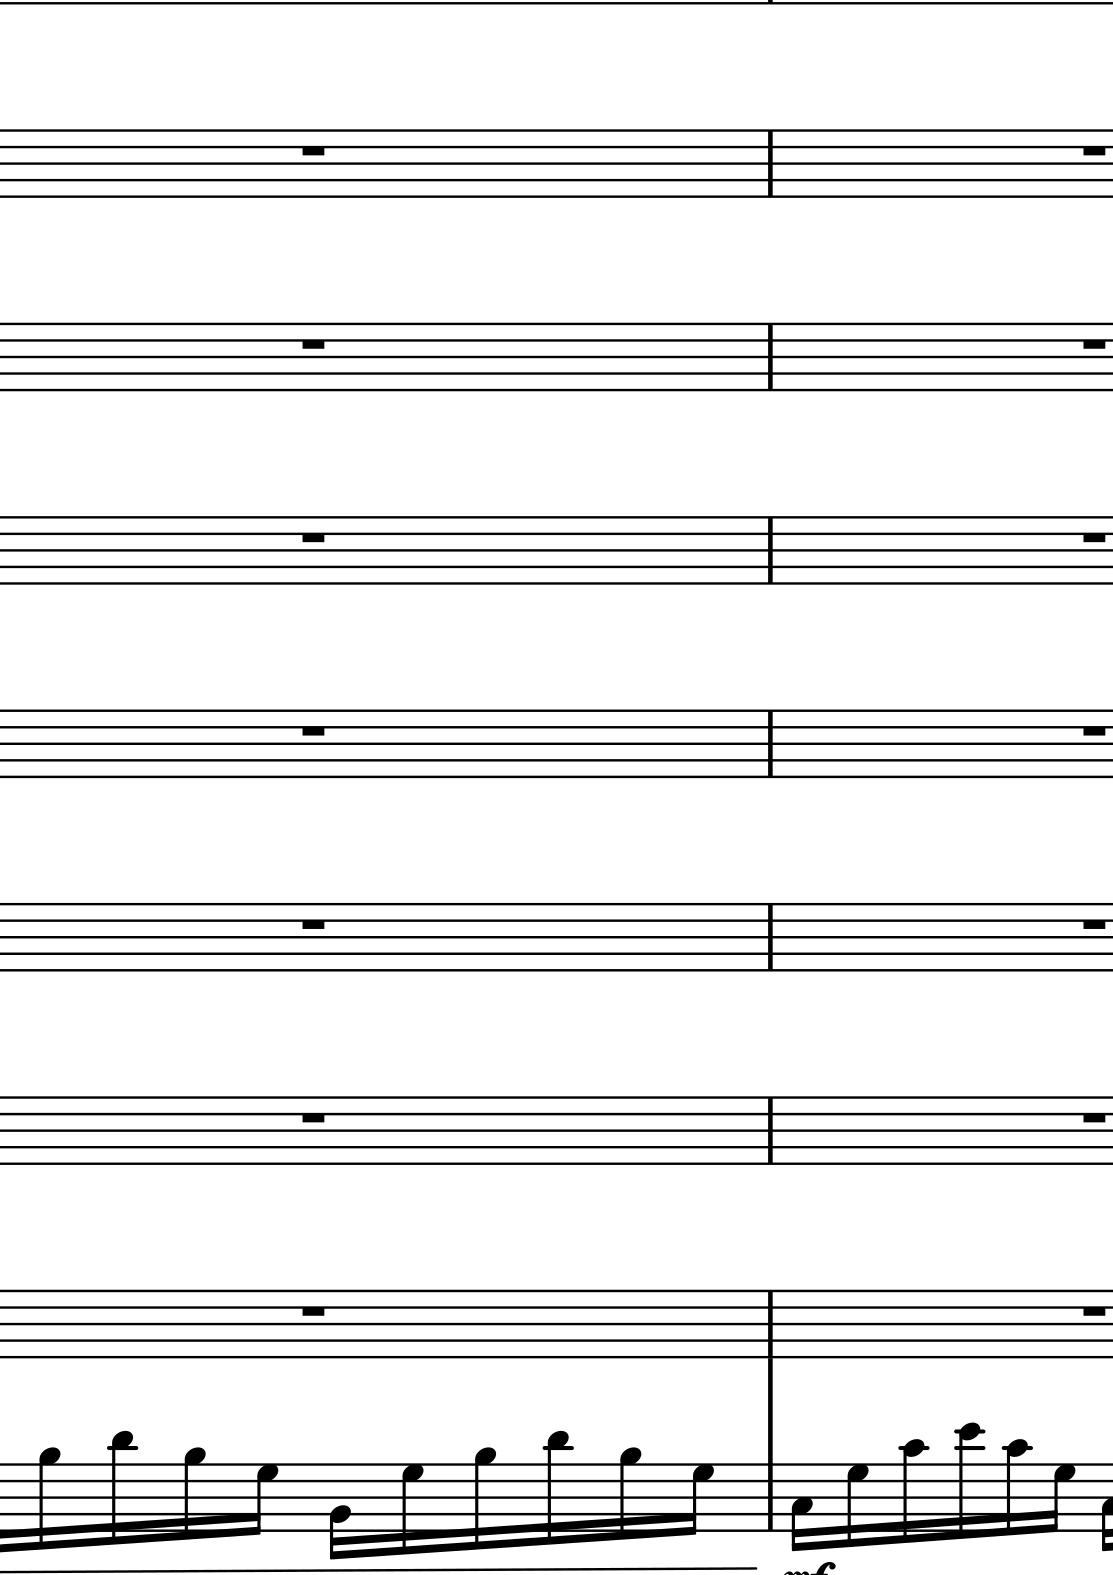16_10: (899, 1437, 926, 1544), (1002, 1437, 1031, 1536)
16_11: (108, 1428, 137, 1549), (543, 1428, 571, 1550)
16_12: (955, 1420, 983, 1541)
16_2: (328, 1461, 353, 1561)
16_3: (789, 1459, 813, 1553)
16_7: (681, 1459, 715, 1540), (397, 1459, 425, 1555), (249, 1462, 279, 1538), (846, 1459, 871, 1549), (1052, 1462, 1080, 1535)
16_9: (181, 1444, 210, 1542), (470, 1445, 496, 1550), (616, 1443, 641, 1541), (39, 1443, 61, 1551)
Rests1: (1076, 330, 1108, 355), (1078, 138, 1111, 163), (1077, 912, 1109, 934), (1077, 524, 1109, 545), (298, 1107, 329, 1128), (1078, 1299, 1109, 1321), (1078, 1107, 1109, 1127), (1076, 722, 1111, 741), (298, 1300, 330, 1320), (298, 913, 331, 931), (298, 141, 328, 160), (300, 527, 326, 548), (299, 335, 328, 353), (300, 722, 329, 741)
Single_barline: (755, 1097, 781, 1164), (755, 515, 779, 583), (756, 903, 781, 971), (756, 1290, 781, 1357), (756, 709, 781, 775), (756, 1463, 779, 1532), (756, 129, 779, 197), (758, 323, 781, 390)
